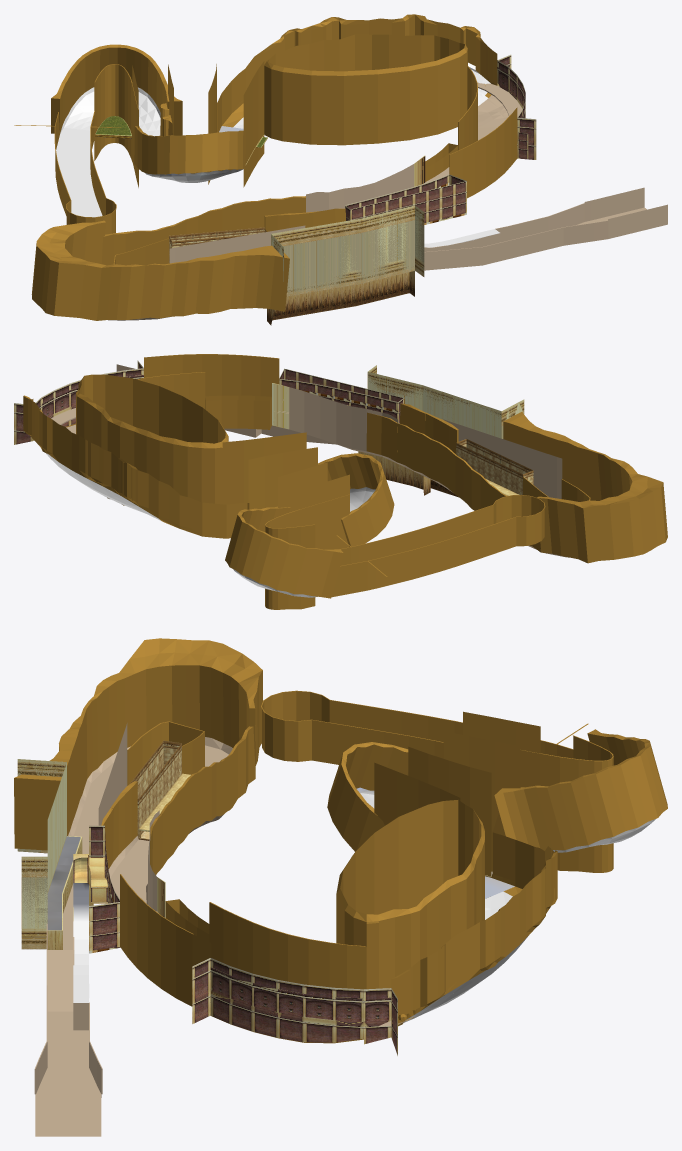
The model's file is SectionA_Collision_join.fbx.
3 renders of one model, top to bottom at view 1: azimuth 30°, elevation 25°; view 2: azimuth 150°, elevation 25°; view 3: azimuth 270°, elevation 25°, orthographic. The views are drawn at different scales.
Visible parts, largest first — view 1: stg051_o_A11_Mesh_0005.001, stg051_o_A09_Mesh_0005.001, stg051_og_A04_Mesh_0001.001, stg051_o_A11_Mesh_0007.001, stg051_o_A08_Mesh_0001.001, stg051_o_A15_Mesh_0002.001, stg051_o_A03_Mesh_0006.001; view 2: stg051_o_A11_Mesh_0005.001, stg051_o_A09_Mesh_0005.001, stg051_o_A08_Mesh_0001.001, stg051_o_A15_Mesh_0002.001, stg051_og_A04_Mesh_0001.001, stg051_o_A11_Mesh_0007.001, stg051_og_A09_Mesh_0002.001, stg051_o_A11_Mesh_0011.001; view 3: stg051_o_A11_Mesh_0005.001, stg051_o_A09_Mesh_0005.001, stg051_o_A08_Mesh_0001.001, stg051_og_A11_Mesh_0006.001, stg051_og_A04_Mesh_0001.001, stg051_o_A15_Mesh_0002.001, stg051_o_A13_Mesh_0000.001, stg051_o_A11_Mesh_0007.001, stg051_o_A11_Mesh_0011.001.
Boxes of the visible parts, x1,y1,x2,y2 form: stg051_o_A11_Mesh_0005.001: (14, 14, 517, 320); stg051_o_A09_Mesh_0005.001: (108, 82, 667, 320); stg051_og_A04_Mesh_0001.001: (56, 62, 490, 217); stg051_o_A11_Mesh_0007.001: (267, 271, 414, 325); stg051_o_A08_Mesh_0001.001: (497, 54, 536, 159); stg051_o_A15_Mesh_0002.001: (169, 227, 266, 263); stg051_o_A03_Mesh_0006.001: (96, 116, 130, 135); stg051_o_A11_Mesh_0005.001: (23, 354, 667, 609); stg051_o_A09_Mesh_0005.001: (51, 364, 568, 557); stg051_o_A08_Mesh_0001.001: (14, 360, 143, 444); stg051_o_A15_Mesh_0002.001: (456, 439, 533, 494); stg051_og_A04_Mesh_0001.001: (36, 442, 375, 597); stg051_o_A11_Mesh_0007.001: (358, 451, 458, 497); stg051_og_A09_Mesh_0002.001: (272, 383, 289, 429); stg051_o_A11_Mesh_0011.001: (466, 439, 532, 474); stg051_o_A11_Mesh_0005.001: (14, 638, 667, 1043); stg051_o_A09_Mesh_0005.001: (34, 723, 409, 1136); stg051_o_A08_Mesh_0001.001: (192, 958, 397, 1055); stg051_og_A11_Mesh_0006.001: (47, 836, 89, 1002); stg051_og_A04_Mesh_0001.001: (356, 787, 655, 1022); stg051_o_A15_Mesh_0002.001: (137, 740, 181, 840); stg051_o_A13_Mesh_0000.001: (73, 857, 107, 903); stg051_o_A11_Mesh_0007.001: (47, 836, 93, 949); stg051_o_A11_Mesh_0011.001: (129, 741, 163, 798).
Size of the model in its own units: 57201 by 12406 by 39612.
